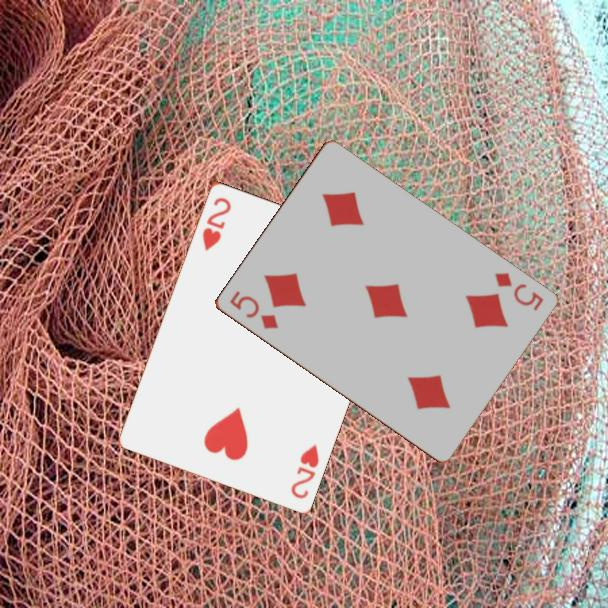d05: (490, 269, 546, 314), (226, 287, 281, 332)
h02: (198, 193, 234, 254), (287, 440, 322, 501)
